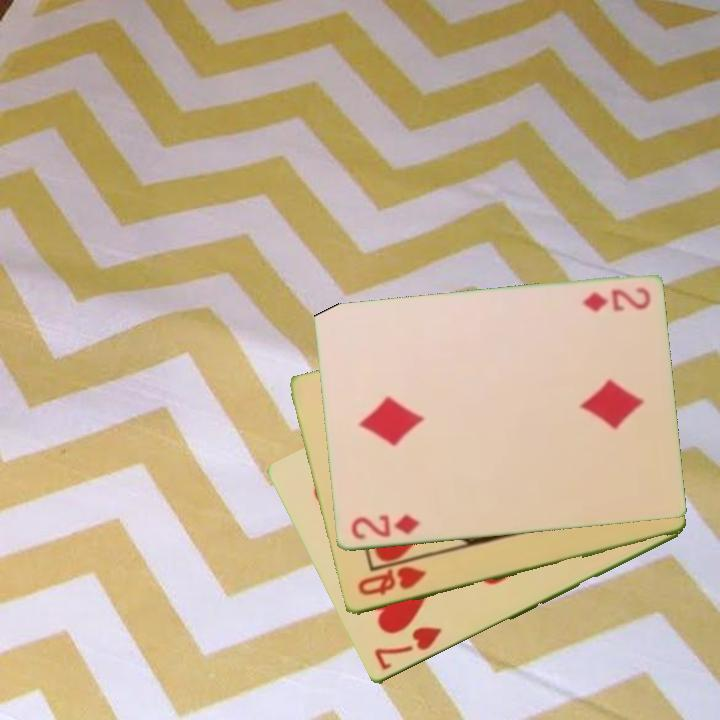2d: (347, 511, 422, 543), (579, 284, 653, 315)
7h: (370, 623, 445, 674)
Qh: (354, 563, 429, 599)
